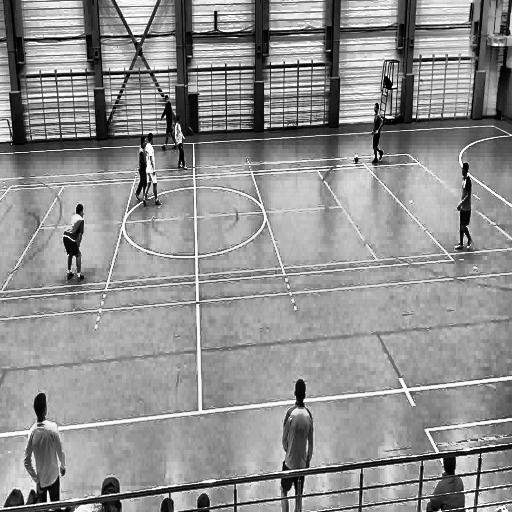ball: (354, 151, 360, 166)
player: (273, 372, 314, 512), (24, 390, 68, 499), (454, 155, 475, 258), (62, 200, 86, 286), (141, 134, 163, 209), (134, 134, 151, 205), (160, 88, 178, 154), (370, 101, 387, 169), (174, 112, 190, 174)
